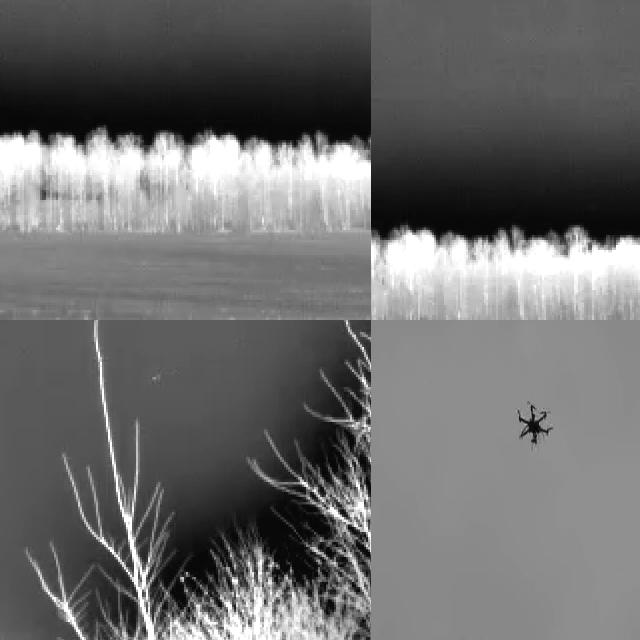0: (138, 366, 166, 393)
drone: (515, 399, 557, 453)
